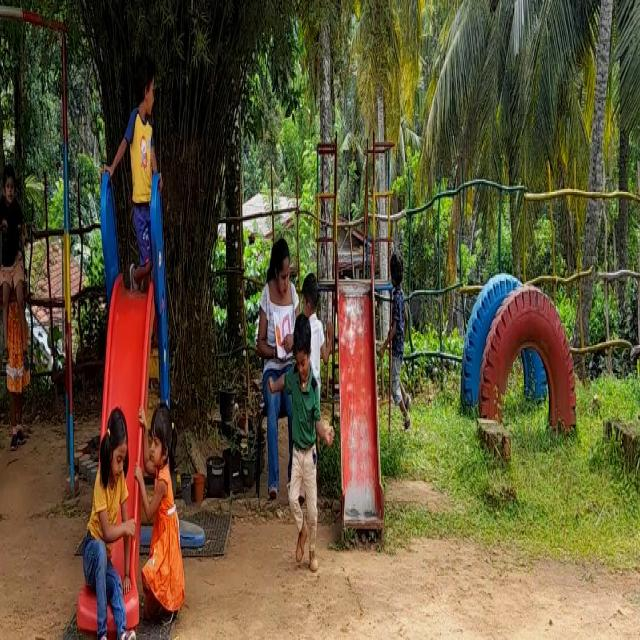adult: (248, 224, 292, 500)
child: (116, 70, 167, 298), (84, 412, 132, 640), (283, 325, 320, 563), (137, 408, 174, 618), (0, 144, 33, 308)
